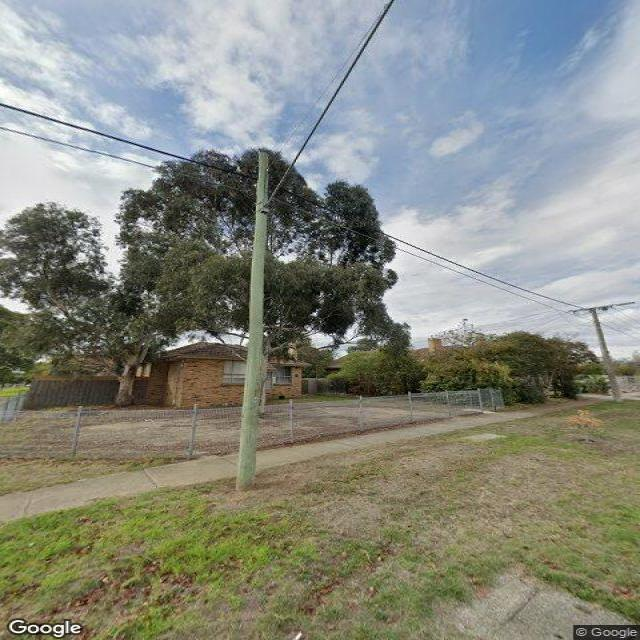crossarm: (563, 298, 636, 314)
timber-pole: (241, 149, 273, 488), (583, 302, 624, 399)
